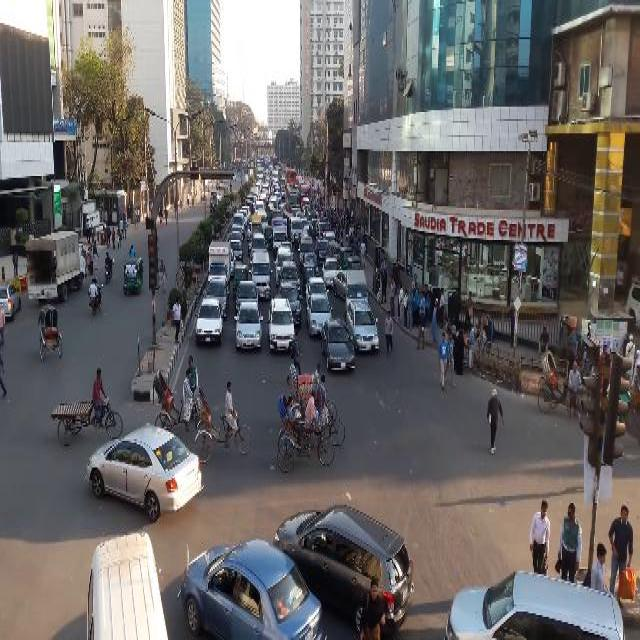10: (88, 276, 102, 314), (104, 250, 115, 282)
11: (208, 239, 230, 280), (272, 217, 286, 252), (303, 251, 319, 272), (250, 184, 258, 193)
13: (49, 368, 122, 446), (276, 390, 334, 470), (193, 383, 253, 460), (296, 372, 346, 446), (537, 348, 583, 416), (151, 367, 195, 433), (36, 304, 64, 357)
15: (441, 568, 624, 634), (268, 296, 294, 351), (302, 216, 308, 228)
17: (122, 255, 142, 293), (302, 260, 316, 290), (234, 262, 248, 292), (325, 241, 339, 260), (340, 245, 352, 267), (265, 225, 273, 248), (348, 255, 360, 268)
18: (270, 210, 284, 217)
19: (86, 530, 166, 633), (344, 268, 368, 319), (248, 250, 272, 298), (298, 232, 314, 269), (288, 216, 302, 239), (257, 207, 267, 227), (258, 192, 266, 203), (269, 198, 277, 205)
5: (274, 503, 416, 631), (176, 540, 326, 636), (86, 422, 204, 516), (321, 317, 355, 369), (346, 298, 380, 349), (195, 298, 225, 348), (234, 300, 262, 351), (306, 292, 332, 337), (204, 278, 228, 316), (233, 279, 259, 311), (304, 278, 328, 310), (322, 257, 342, 287), (332, 268, 346, 297), (316, 238, 328, 260), (230, 238, 242, 260), (238, 205, 250, 218), (228, 231, 242, 242), (208, 197, 220, 208), (275, 190, 281, 201)
7: (250, 212, 262, 232)
9: (276, 281, 300, 323), (274, 242, 292, 284), (279, 258, 299, 293), (248, 230, 268, 260), (230, 210, 243, 231), (300, 196, 310, 210), (254, 199, 262, 213), (210, 190, 220, 198)
Ambulance: (316, 216, 330, 243)
Bus: (24, 230, 84, 300)
Truck: (286, 183, 298, 208), (298, 180, 310, 198)
